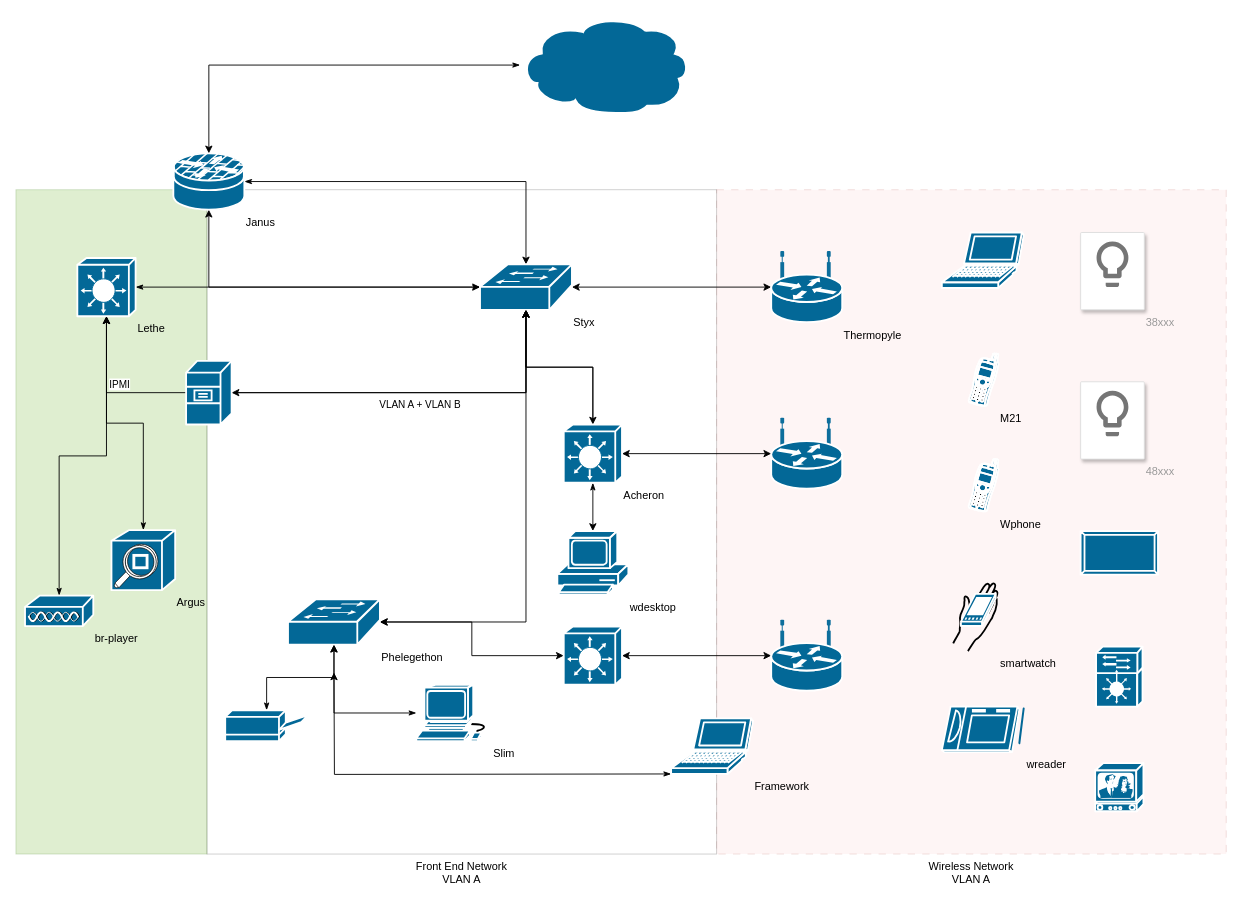
The diagram is 1242 pixels wide and 902 high, and some of its shapes have lost their labels. Here are the shapes that lost their labels. From the top down, the centre of each, then its label:
At (x=604, y=64): "Internet".
At (x=982, y=259): "Faeling".
At (x=208, y=392): "NAS".
At (x=806, y=453): "Hippocrene".
At (x=1118, y=552): "thermostat".
At (x=592, y=655): "Cocytus".
At (x=806, y=655): "Castalian".
At (x=1119, y=676): "m23110103".
At (x=266, y=725): "printer".
At (x=1119, y=787): "smarttv".
